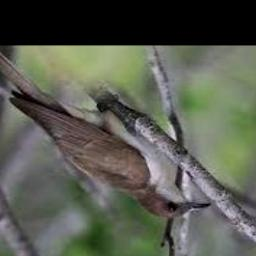Cuckoo: (0, 45, 213, 217)
